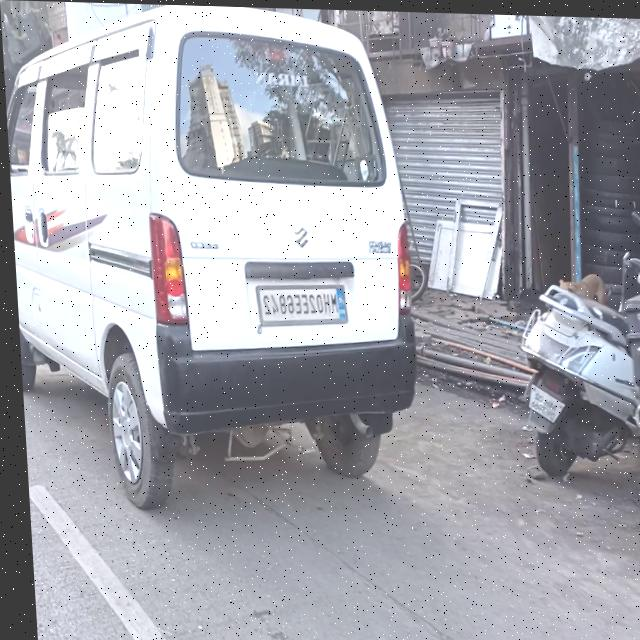plate: (249, 279, 345, 330)
